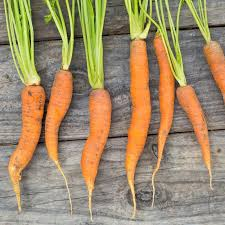carrot: (75, 82, 125, 220), (144, 23, 179, 197), (41, 56, 79, 196), (4, 81, 43, 217), (171, 76, 219, 185), (126, 30, 152, 221), (192, 19, 225, 83)
